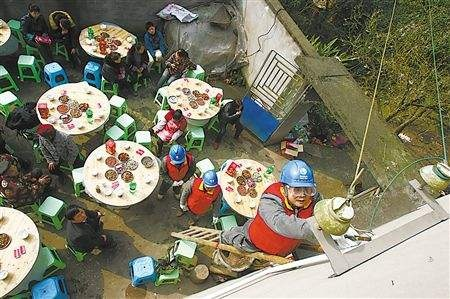blue: (280, 160, 315, 208), (167, 144, 185, 166), (202, 171, 217, 192)
none: (65, 204, 86, 226), (1, 160, 19, 178), (29, 3, 42, 18), (173, 49, 186, 63), (232, 97, 244, 112), (109, 51, 121, 63), (58, 18, 69, 31), (145, 20, 155, 34), (134, 42, 144, 54)
red: (40, 124, 53, 142)
